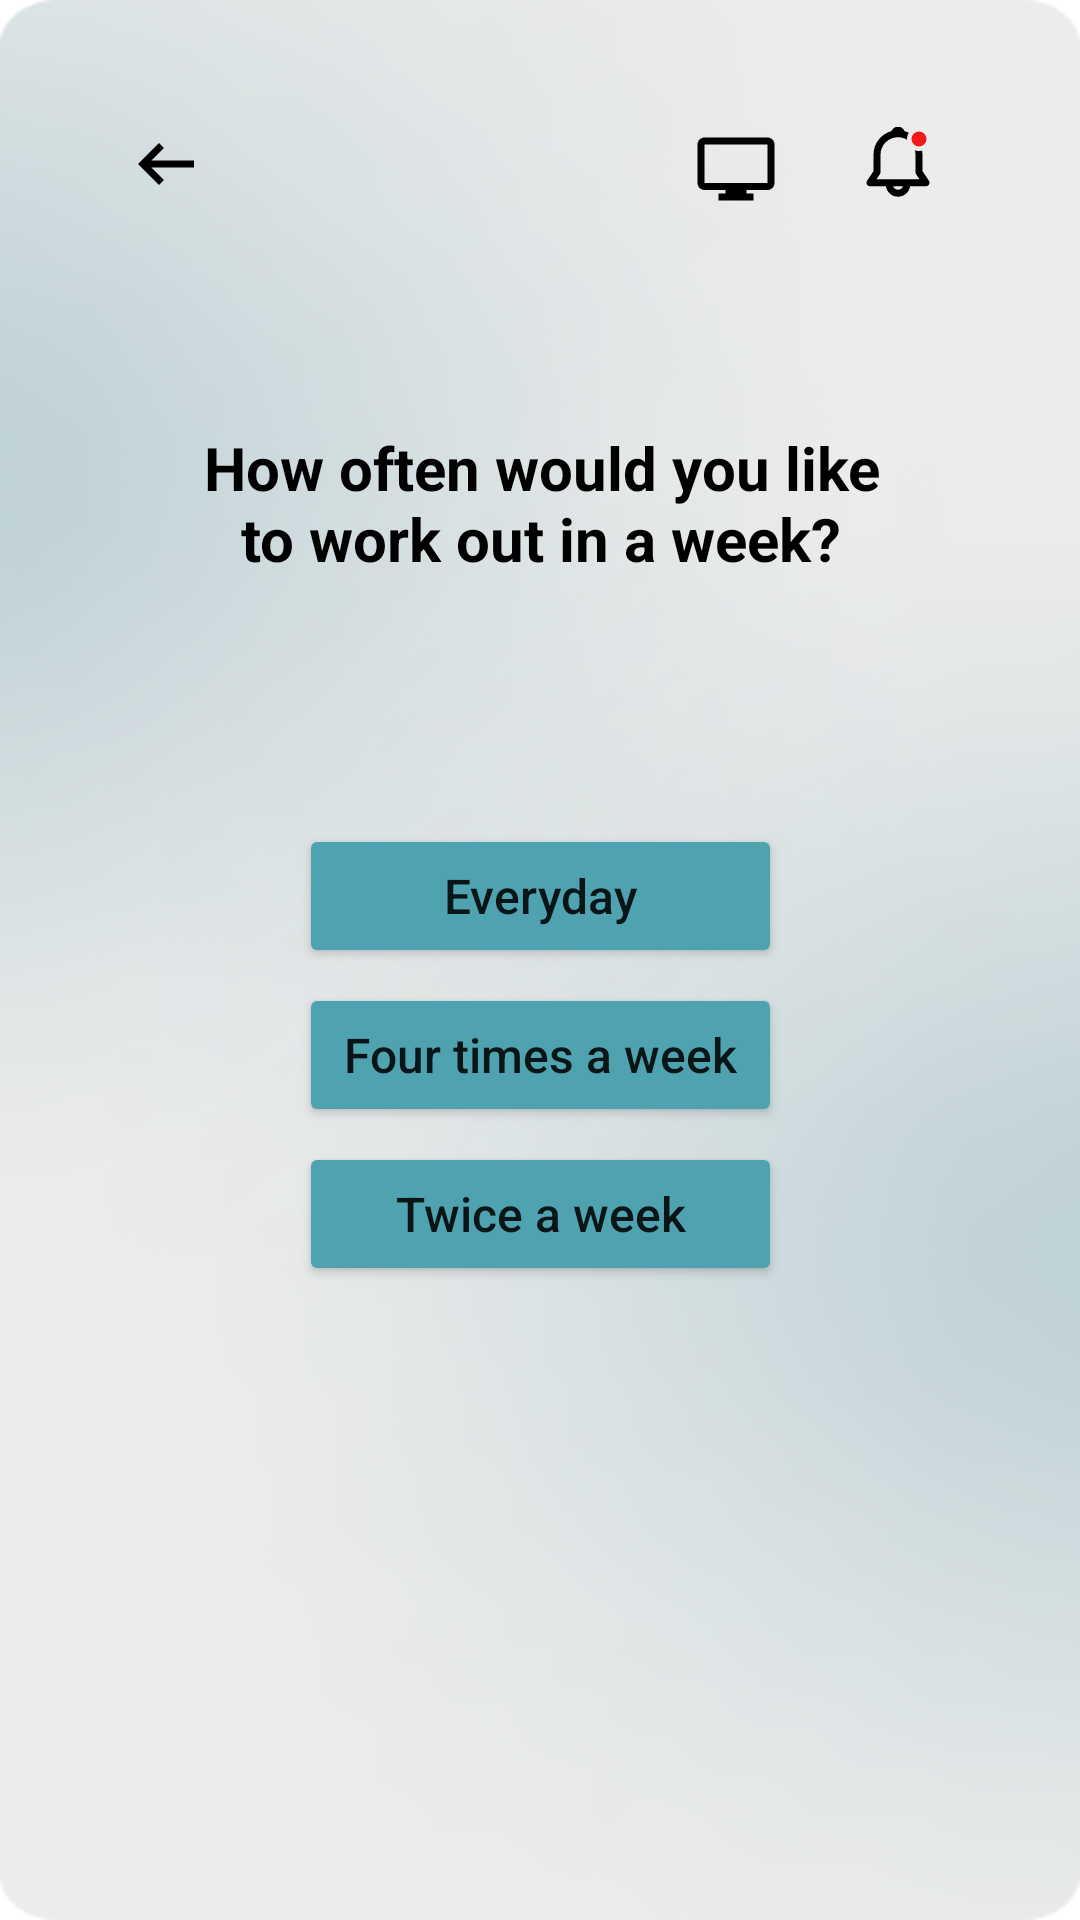

Icon click points for this 1080×1920 phone screenshot, format (x=x, y=y):
mi notification: (x=898, y=162)
monitor: (x=736, y=169)
short left: (x=166, y=164)
